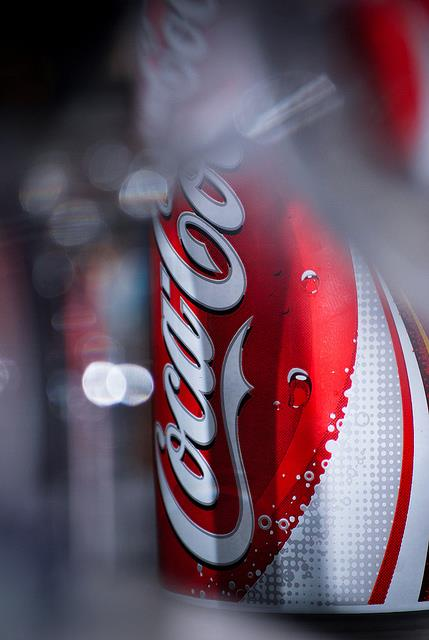coca_cola: (136, 156, 275, 564)
